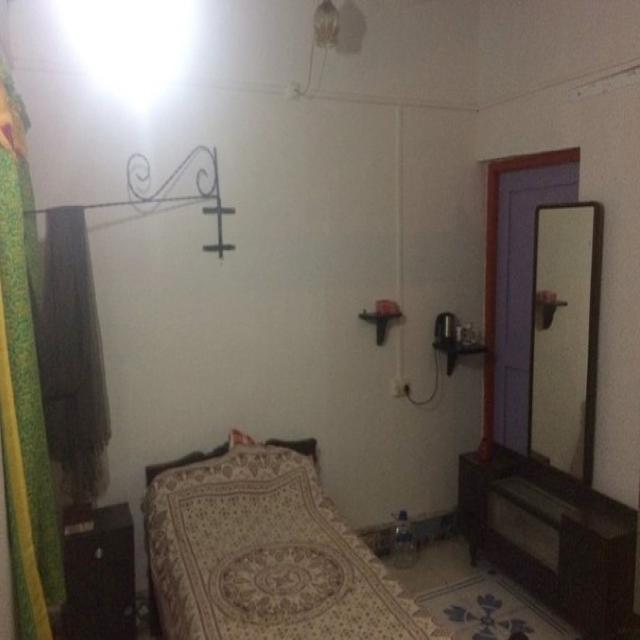Non_Damaged: (18, 23, 640, 640)
